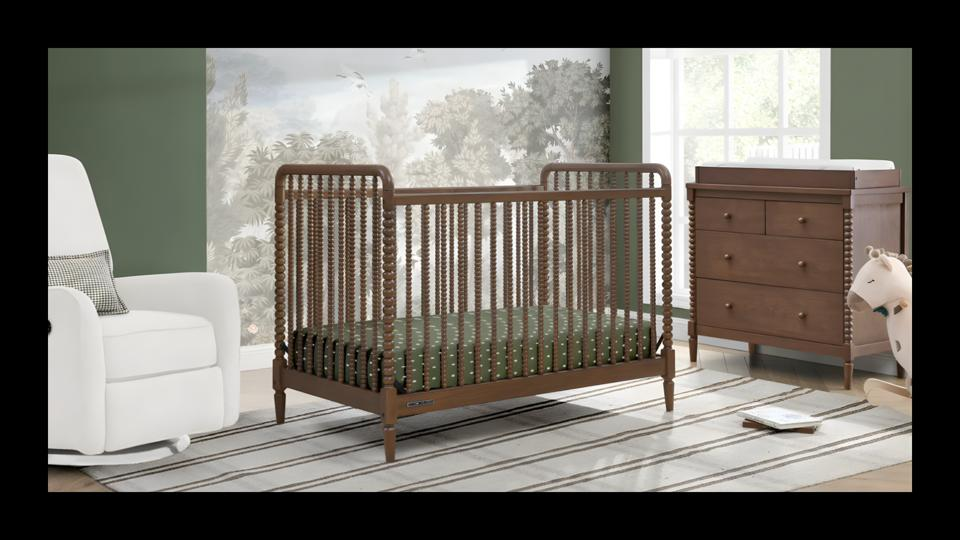crib: (273, 163, 674, 461)
